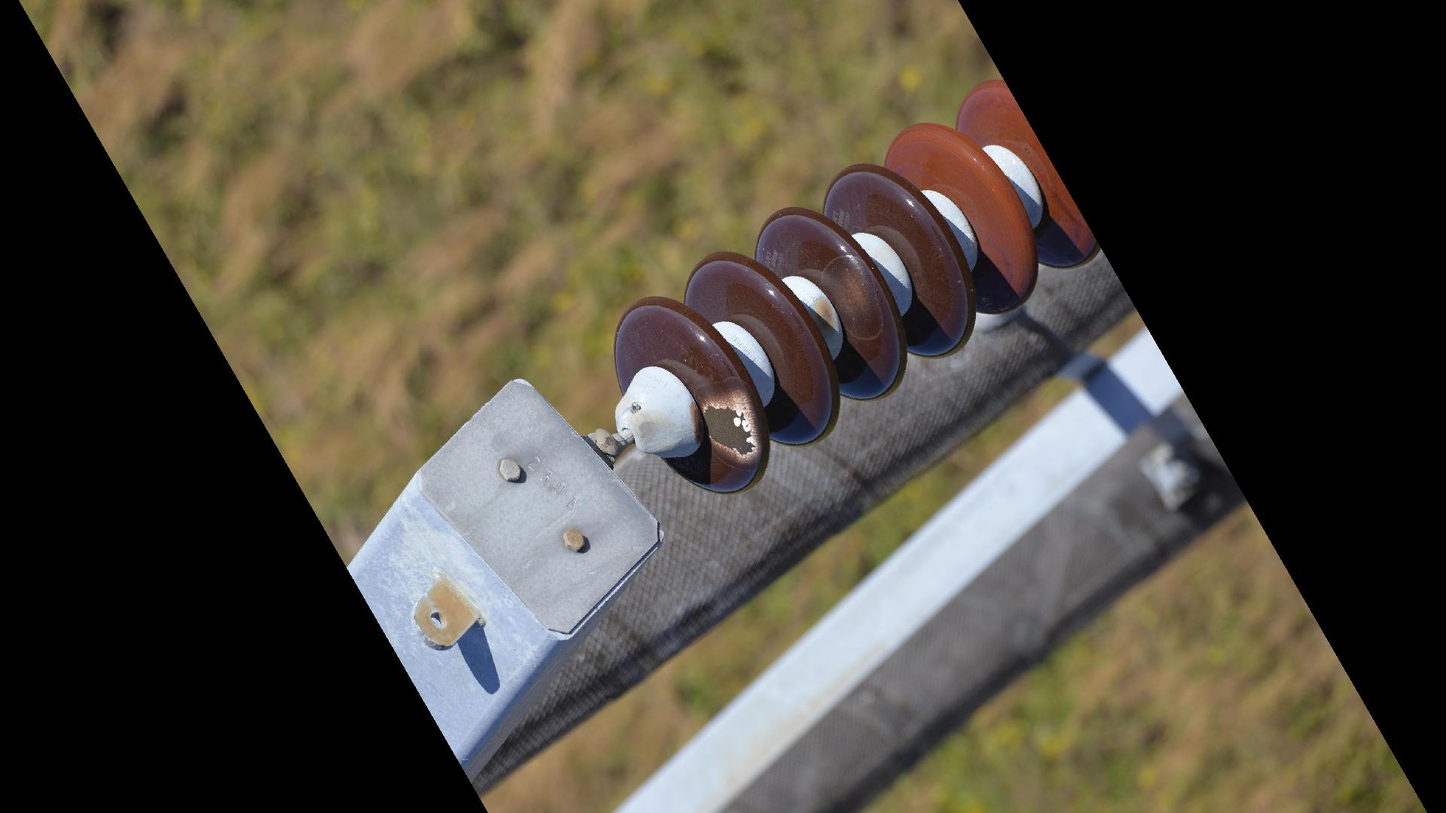insulator: (607, 75, 1106, 499)
insulator_flashover: (819, 252, 886, 344), (700, 400, 761, 461)
